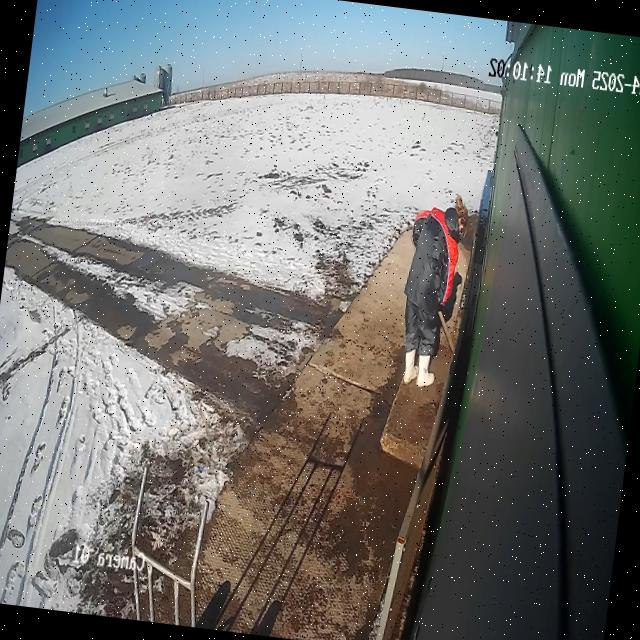Red uniform: (390, 200, 467, 393)
